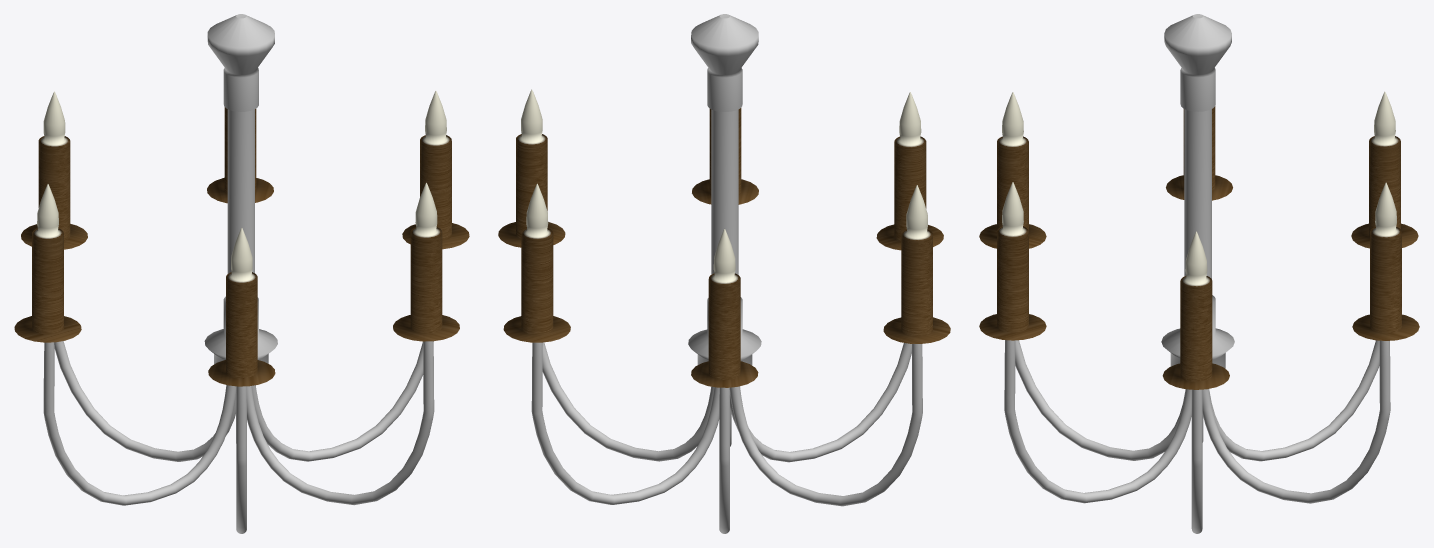
File: chandelier.fbx
3 views of the same model, side by side, from view 1: azimuth 30°, elevation 25°; view 2: azimuth 150°, elevation 25°; view 3: azimuth 270°, elevation 25° (orthographic).
Parts seen in each view (by area): view 1: pCylinder4, group7_pasted__group4_pasted__pasted__pCylinder3; view 2: pCylinder4, group7_pasted__group4_pasted__pasted__pCylinder3; view 3: pCylinder4, group7_pasted__group4_pasted__pasted__pCylinder3.
Part boxes in pixels (x1,y1,x2,y2): pCylinder4: [43, 14, 434, 533]; group7_pasted__group4_pasted__pasted__pCylinder3: [14, 91, 469, 386]; pCylinder4: [531, 14, 922, 533]; group7_pasted__group4_pasted__pasted__pCylinder3: [498, 89, 950, 387]; pCylinder4: [1004, 14, 1390, 533]; group7_pasted__group4_pasted__pasted__pCylinder3: [979, 91, 1419, 389].
Bounding box in the file's own units: 6.92 × 6.88 × 5.94.
